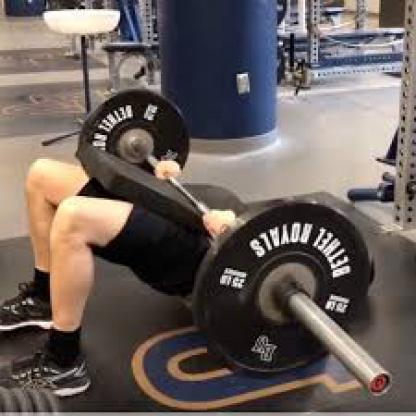barbell: (76, 87, 396, 397)
